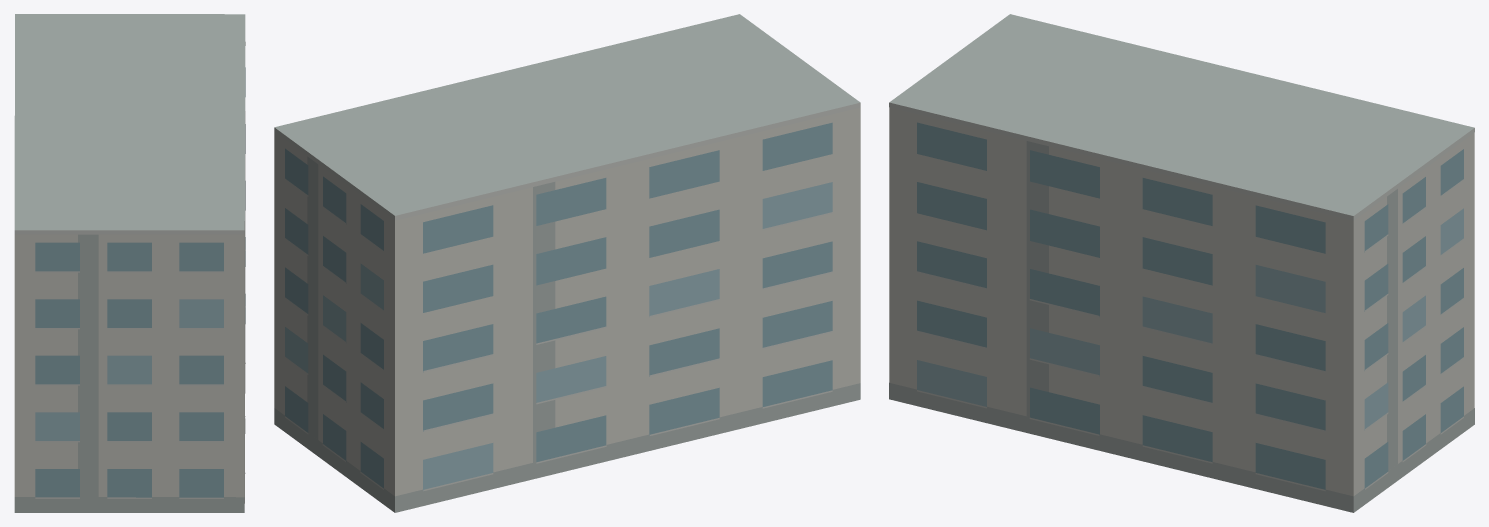
The model's file is residential-ee9e5786-7def-46cf-973d-9412e2f71530.glb.
The picture shows the model from 3 angles, left to right: view 1: azimuth 30°, elevation 25°; view 2: azimuth 150°, elevation 25°; view 3: azimuth 270°, elevation 25°; orthographic projection. The views are drawn at different scales.
Parts seen in each view (by area): view 1: residential-ee9e5786-7def-46cf-973d-9412e2f71530.tmp; view 2: residential-ee9e5786-7def-46cf-973d-9412e2f71530.tmp; view 3: residential-ee9e5786-7def-46cf-973d-9412e2f71530.tmp.
Boxes of the visible parts, left/top/right/bottom form: residential-ee9e5786-7def-46cf-973d-9412e2f71530.tmp: left=14, top=14, right=245, bottom=512; residential-ee9e5786-7def-46cf-973d-9412e2f71530.tmp: left=274, top=14, right=860, bottom=512; residential-ee9e5786-7def-46cf-973d-9412e2f71530.tmp: left=889, top=14, right=1474, bottom=512.
Size of the model in its own units: 22.28 by 15.25 by 27.28.
